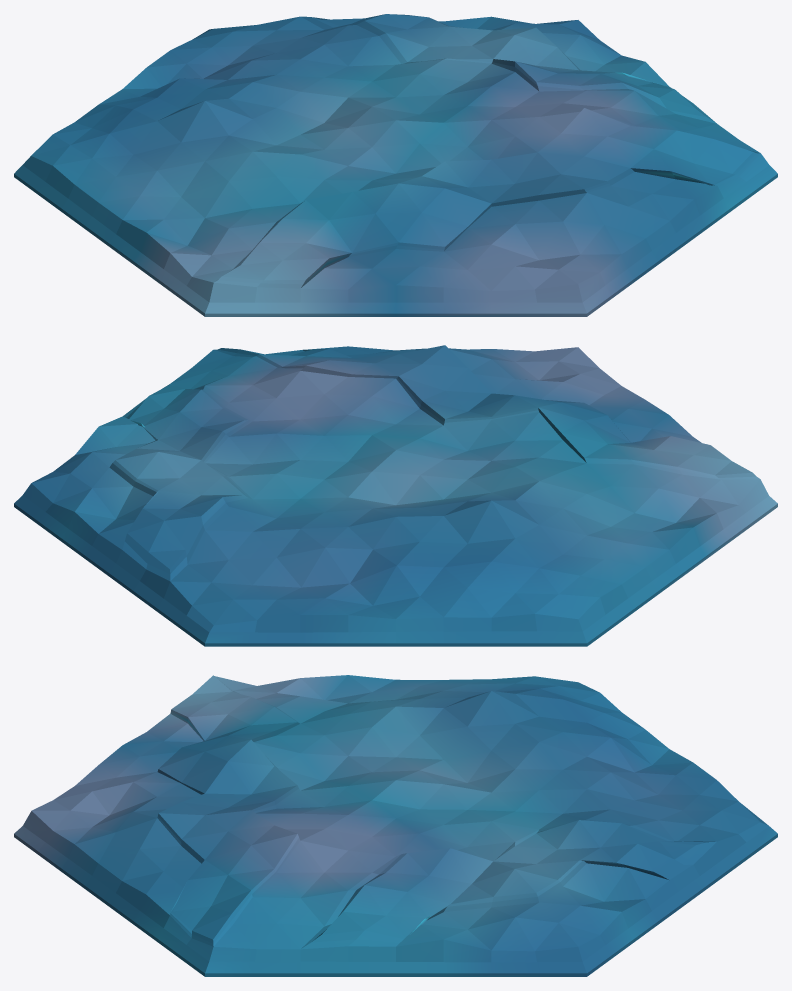
The model's file is deepOcean.glb.
The picture shows the model from 3 angles, top to bottom: view 1: azimuth 30°, elevation 25°; view 2: azimuth 150°, elevation 25°; view 3: azimuth 270°, elevation 25°; orthographic projection.
Visible parts, largest first — view 1: deepocean; view 2: deepocean; view 3: deepocean.
Boxes of the visible parts, box(x1,y1,x2,y2) form: deepocean: box(14, 14, 777, 316); deepocean: box(14, 345, 777, 646); deepocean: box(14, 675, 777, 976).
Size of the model in its own units: 1.73 by 0.2202 by 2.
